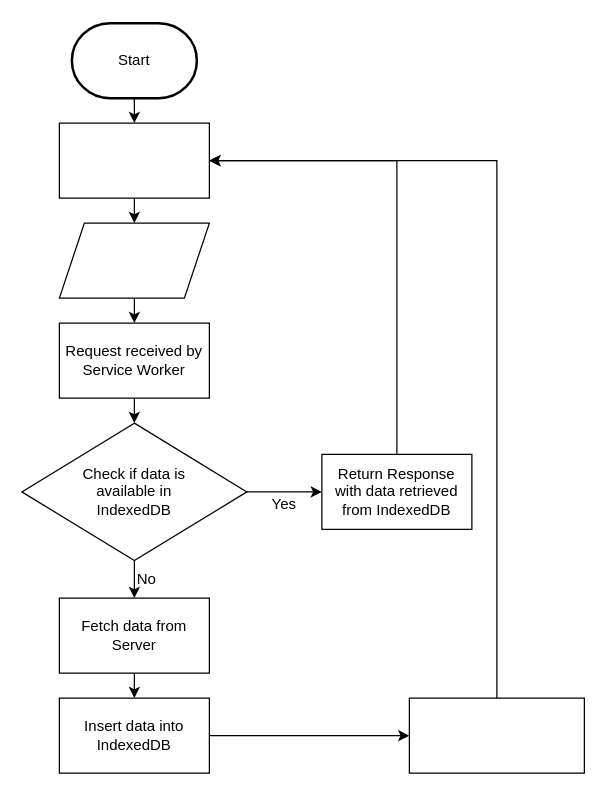
This 606x795 diagram has some shape labels left out. The centre of each missing label's shape, as x and y in pixels:
"HTTP Request Made" belongs at [133,260].
"Main Window Javascript" belongs at [133,160].
"Return Response with fetched data from Server (Not by retrieving from IndexedDB)" belongs at [496,735].
